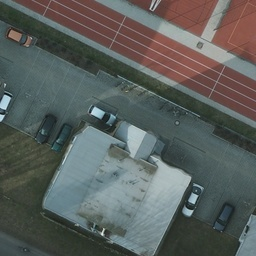car: (211, 198, 233, 236), (181, 182, 204, 218), (87, 106, 117, 127), (5, 26, 31, 47), (54, 121, 71, 152), (42, 108, 57, 143), (1, 91, 11, 122)
